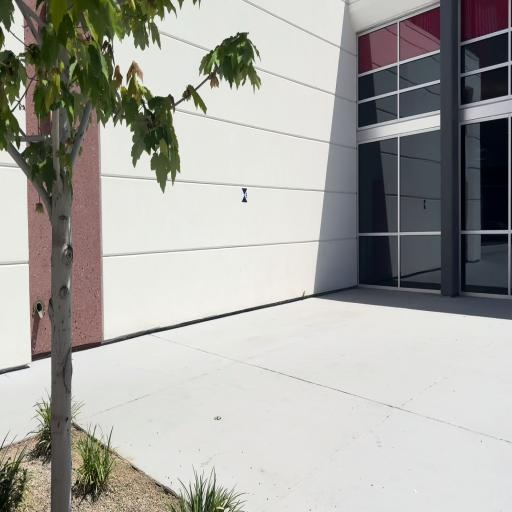target4: (241, 187, 248, 203)
